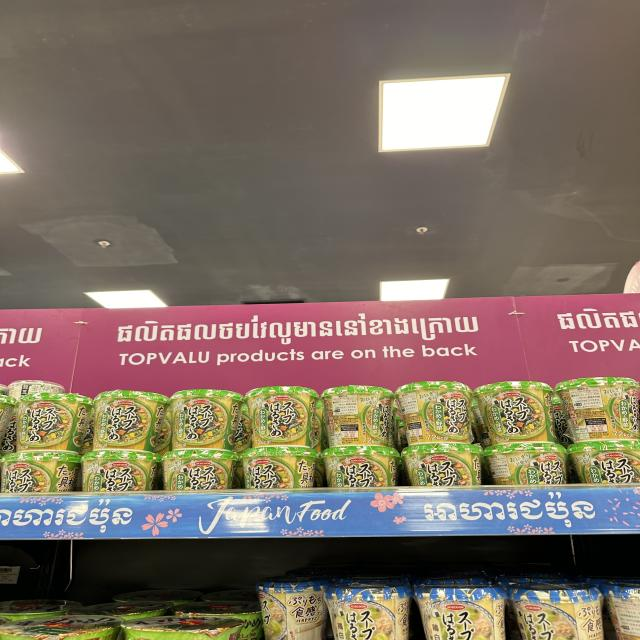Yolov11_80vkh: (103, 304, 487, 353), (412, 485, 603, 528)
